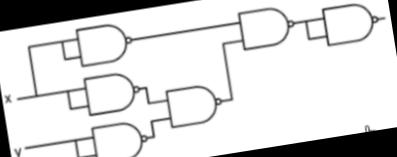nand: (71, 17, 137, 70), (233, 0, 298, 53), (160, 78, 226, 130), (79, 66, 144, 118), (317, 0, 382, 49), (86, 114, 151, 157)
